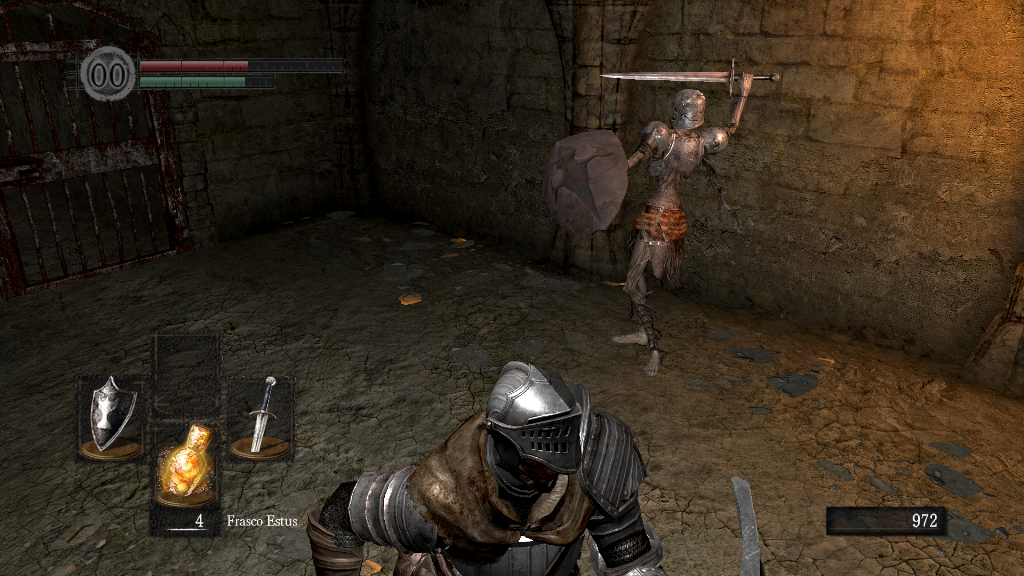health: (138, 58, 343, 71)
humanity: (80, 45, 136, 102)
player: (308, 360, 767, 576)
souls: (825, 506, 945, 536)
stamina: (138, 74, 274, 88)
undeadSoldier: (539, 58, 784, 377)
